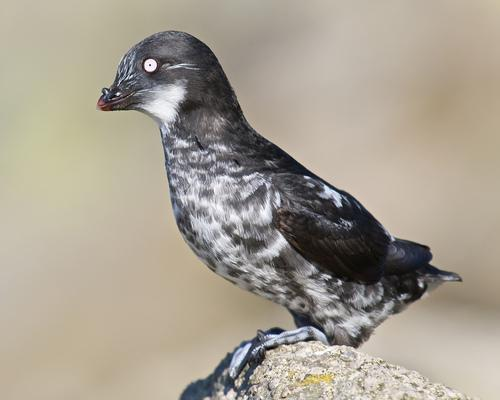006.Least_Auklet: (97, 30, 464, 386)
